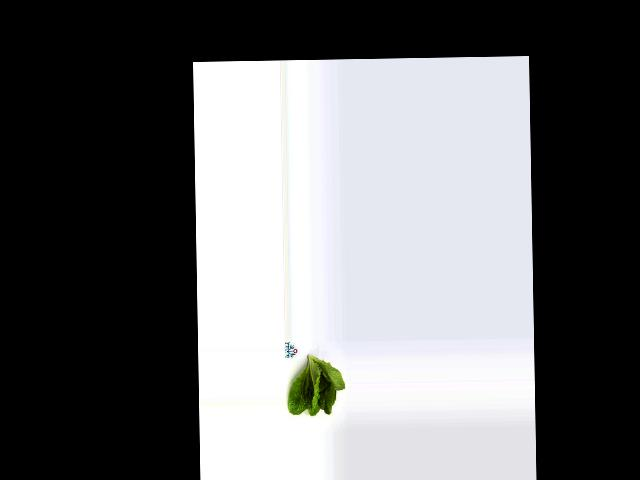lettuce: (288, 353, 346, 418)
